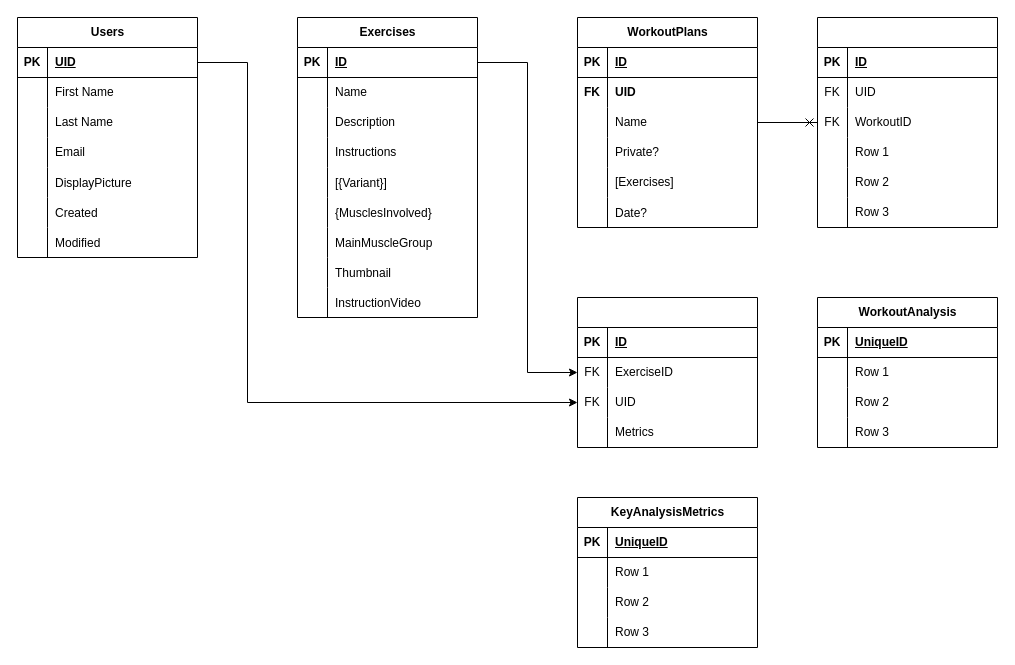
The diagram is 1015 pixels wide and 665 high, and some of its shapes have lost their labels. The shapes that lost their labels are listed below. From the top down, each one's box as (x1, y1, x2, y2) in pixels, then its label:
(816, 16, 998, 228): WorkoutLog
(576, 296, 758, 448): PersonalRecords
